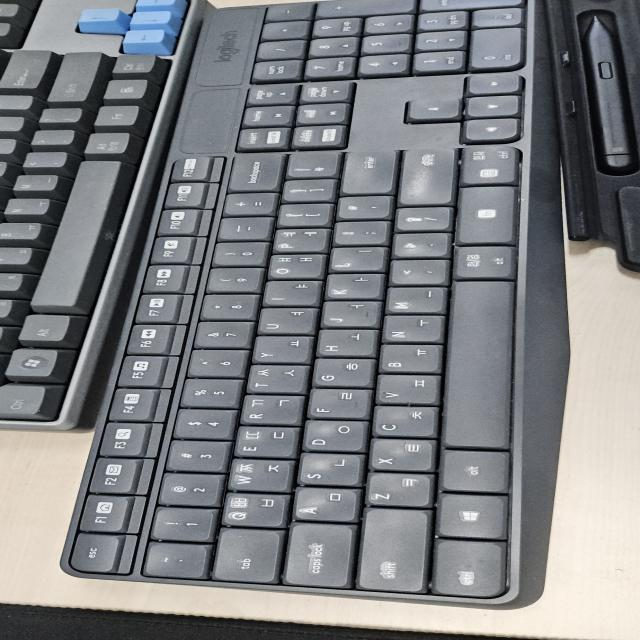Keyboard: (4, 1, 626, 612)
